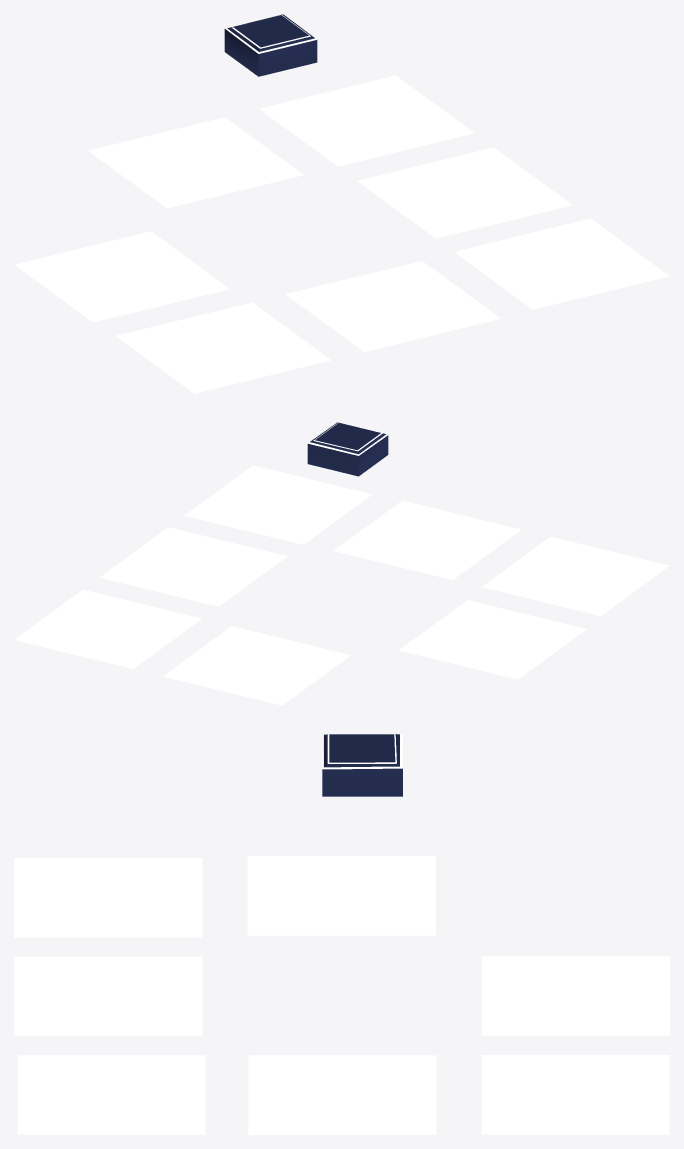
3 renders of one model, top to bottom at view 1: azimuth 30°, elevation 25°; view 2: azimuth 150°, elevation 25°; view 3: azimuth 270°, elevation 25°, orthographic. The views are drawn at different scales.
Parts seen in each view (by area): view 1: Cresume, Cabuot_me, Cexperience, Ctestimonials, Cwork, Ccontact_me, Cskills, Chip; view 2: Cabuot_me, Ccontact_me, Cskills, Ctestimonials, Cwork, Cexperience, Cresume, Chip; view 3: Cabuot_me, Ccontact_me, Cexperience, Cresume, Cskills, Ctestimonials, Cwork, Chip.
Boxes of the visible parts, <box> form: Cresume: <box>88,117,303,208</box>; Cabuot_me: <box>357,147,572,238</box>; Cexperience: <box>14,231,229,322</box>; Ctestimonials: <box>259,75,474,166</box>; Cwork: <box>285,261,500,351</box>; Ccontact_me: <box>454,218,669,309</box>; Cskills: <box>116,302,330,393</box>; Chip: <box>224,14,317,76</box>; Cabuot_me: <box>100,527,287,606</box>; Ccontact_me: <box>184,465,371,544</box>; Cskills: <box>482,536,669,615</box>; Ctestimonials: <box>14,589,201,668</box>; Cwork: <box>334,500,521,579</box>; Cexperience: <box>399,600,586,679</box>; Cresume: <box>163,626,350,705</box>; Chip: <box>307,422,388,476</box>; Cabuot_me: <box>248,1055,436,1134</box>; Ccontact_me: <box>17,1055,205,1134</box>; Cexperience: <box>247,856,435,935</box>; Cresume: <box>481,956,669,1035</box>; Cskills: <box>14,858,202,937</box>; Ctestimonials: <box>481,1055,669,1134</box>; Cwork: <box>14,956,202,1035</box>; Chip: <box>322,734,402,796</box>.
Size of what is drawn, in the model's own units: 16.98 by 6.79 by 16.89.
